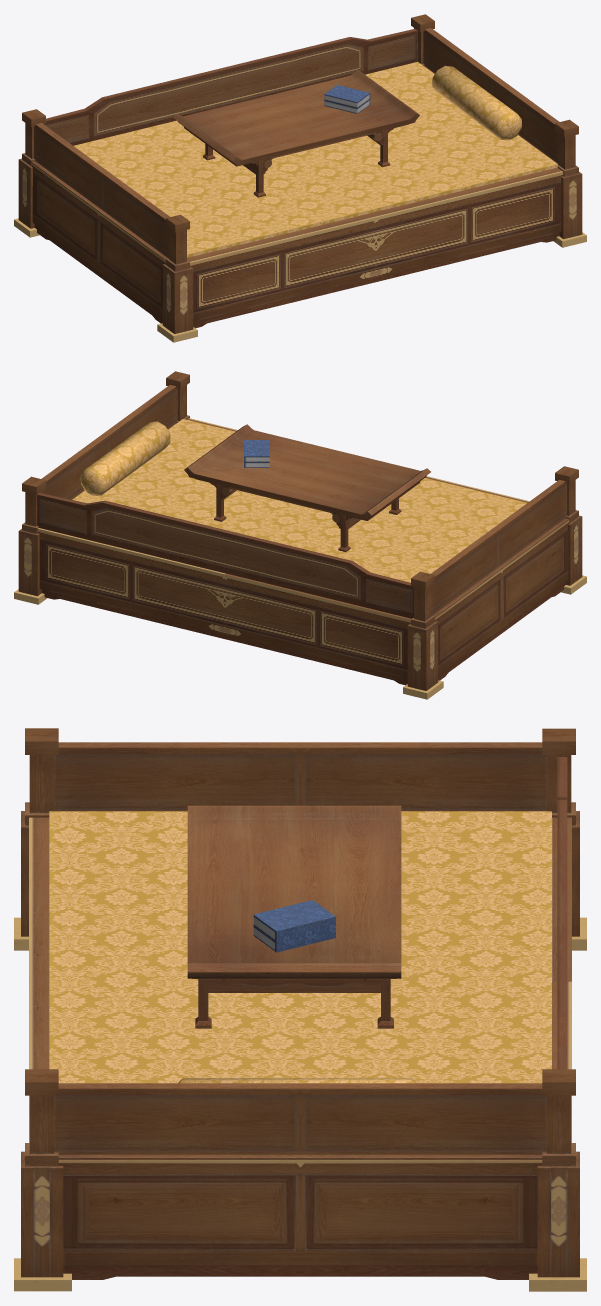
File: Furniture_01_l.FBX
3 renders of one model, top to bottom at view 1: azimuth 30°, elevation 25°; view 2: azimuth 150°, elevation 25°; view 3: azimuth 270°, elevation 25°, orthographic. The views are drawn at different scales.
Parts seen in each view (by area): view 1: Furniture_01_l; view 2: Furniture_01_l; view 3: Furniture_01_l.
Part boxes in pixels (box(x1,y1,x2,y2)): Furniture_01_l: box(14, 14, 586, 342); Furniture_01_l: box(14, 371, 586, 699); Furniture_01_l: box(14, 728, 586, 1291).
Size of the model in its own units: 260 by 78.44 by 174.
